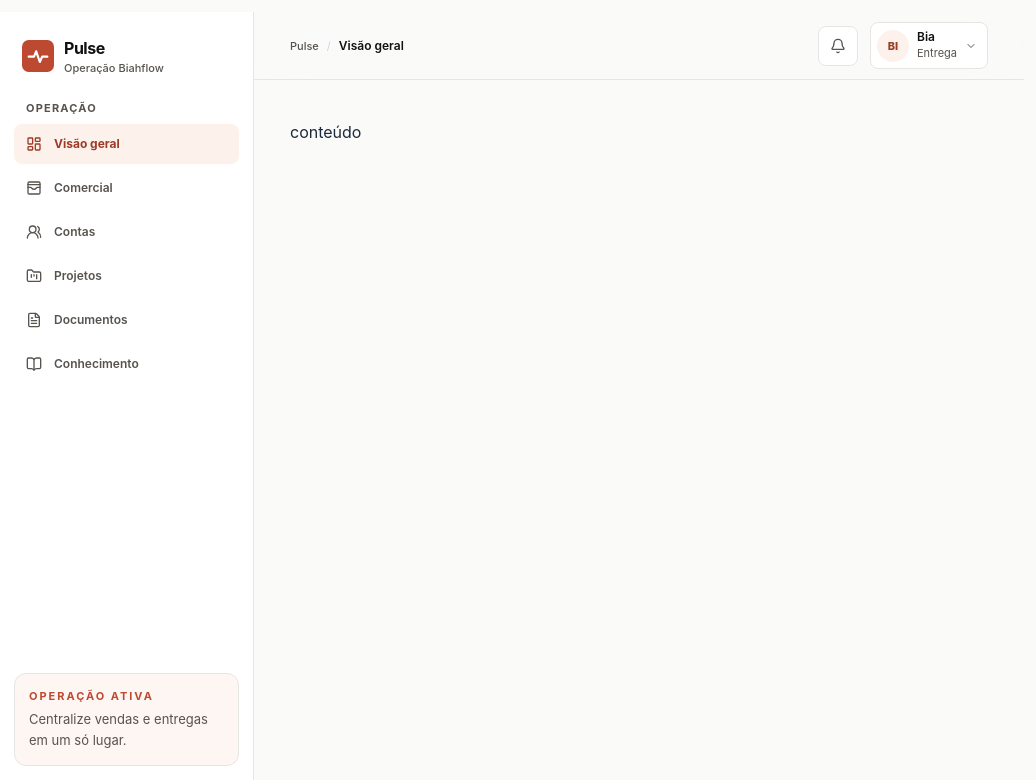
Test: o menu do usuário leva a Meu perfil, acima de Sair
Click the button "BI Bia Entrega" at x=929, y=46, box [870, 22, 988, 69]
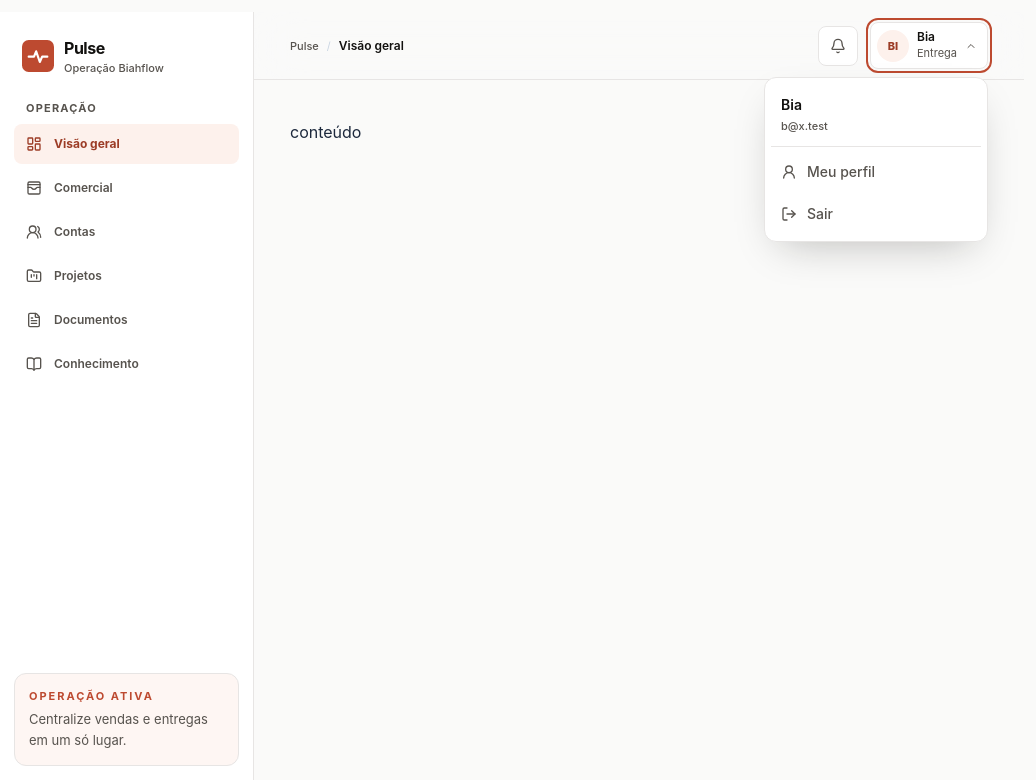
Result: the menu items read "Meu perfil", "Sair", in this order at [781, 163, 875, 180]; [771, 193, 981, 235]
